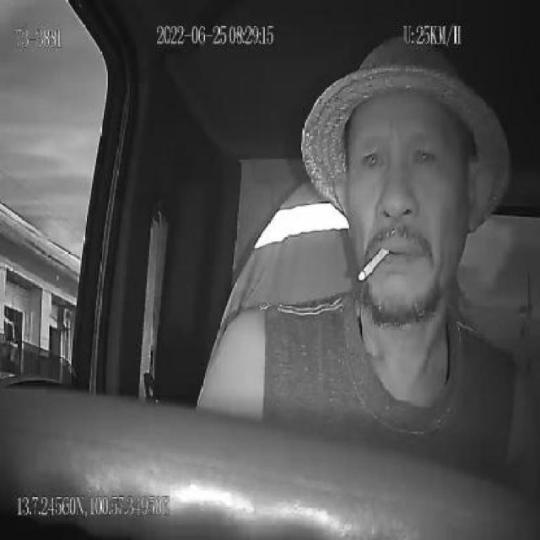smoking: (357, 243, 391, 285)
